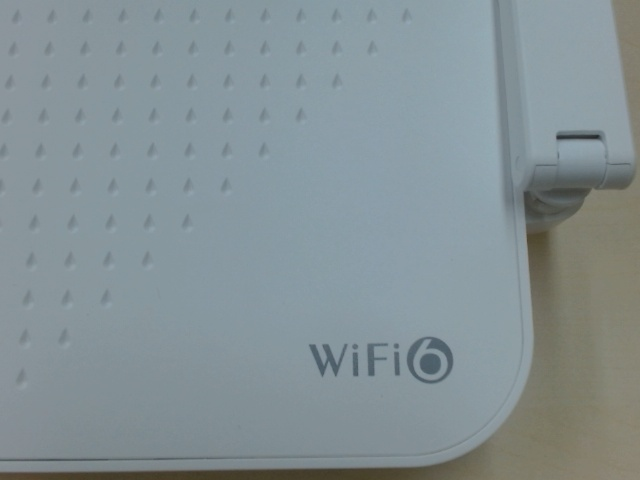AK_ZTEWIFI6: (290, 329, 474, 390)
